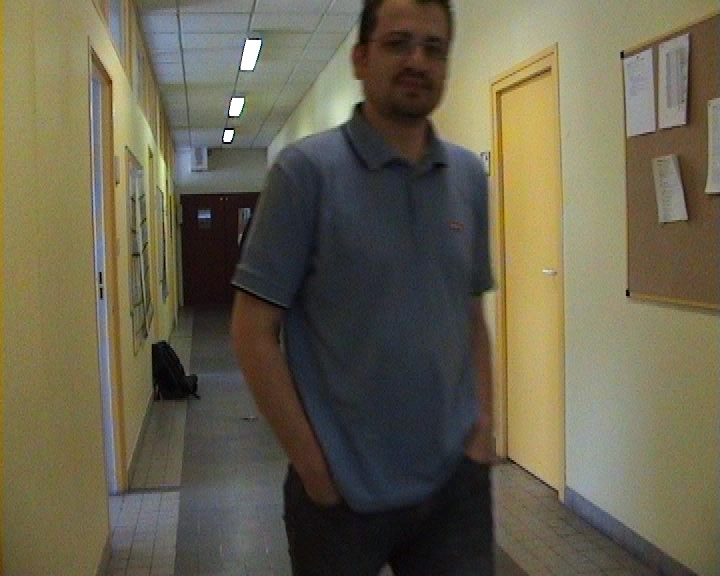leave bag unattended: (120, 317, 226, 441)
